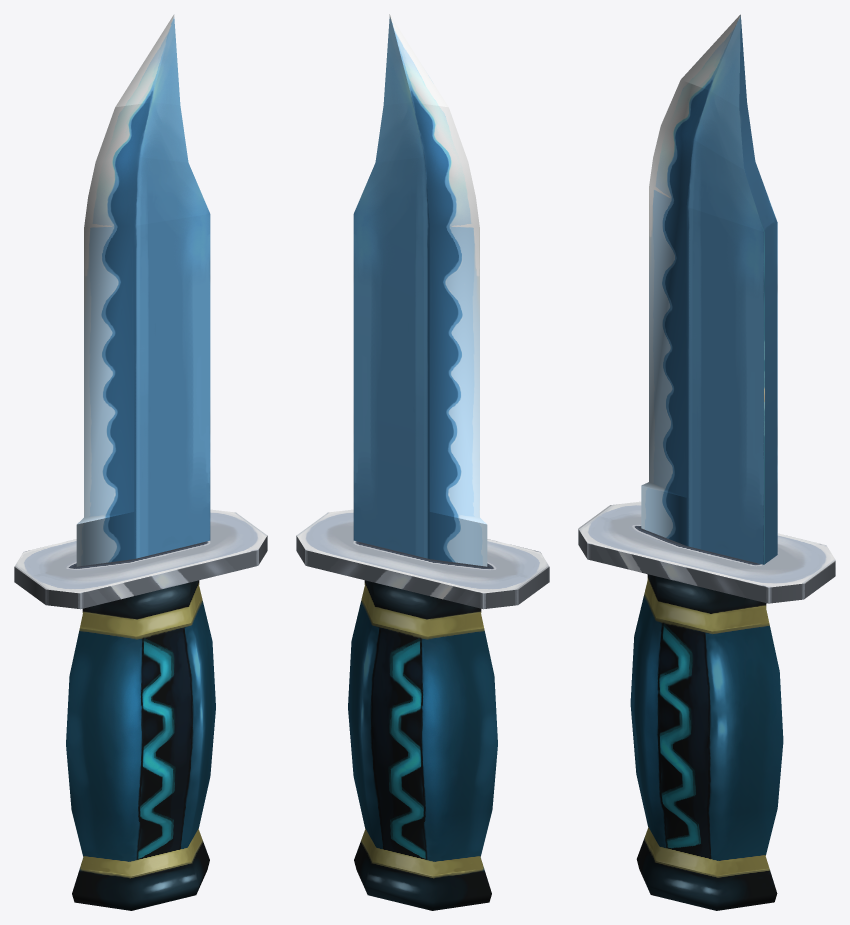
The model's file is LSK_002.fbx.
3 renders of one model, left to right at view 1: azimuth 30°, elevation 25°; view 2: azimuth 150°, elevation 25°; view 3: azimuth 330°, elevation 25°, orthographic.
Parts seen in each view (by area): view 1: LSK_002; view 2: LSK_002; view 3: LSK_002.
Boxes of the visible parts, <box> form: LSK_002: <box>14,14,267,910</box>; LSK_002: <box>296,14,549,910</box>; LSK_002: <box>578,14,835,910</box>.
Bounding box in the file's own units: 73.07 × 272 × 32.5.
1 material, 1 textured.
